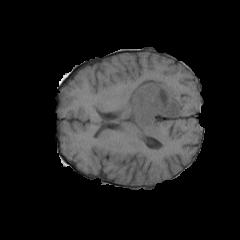glioma: (117, 78, 181, 147)
